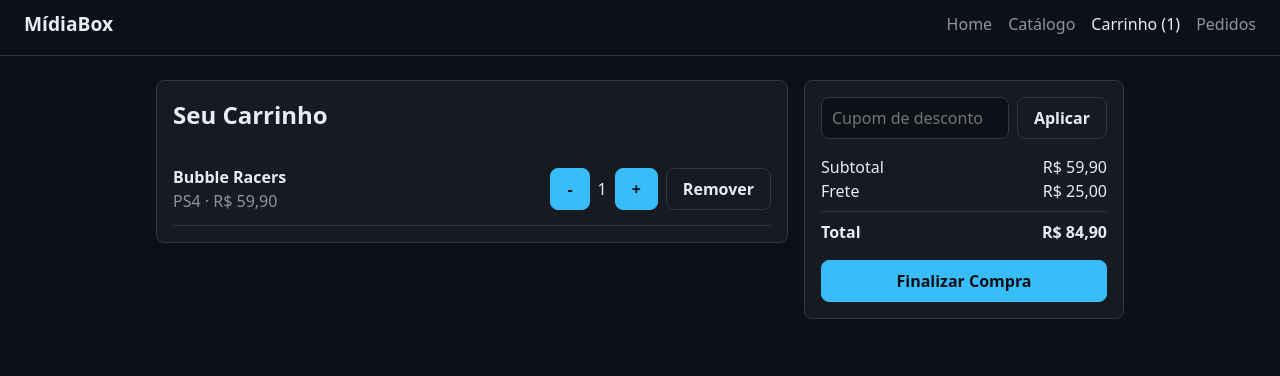
it: página Carrinho › avisa quando o cupom não existe
This screenshot has width=1280, height=376.
Type "BLACKFRIDAY" into the field labelled "Cupom". click: (915, 118)
box: [821, 97, 1009, 139]
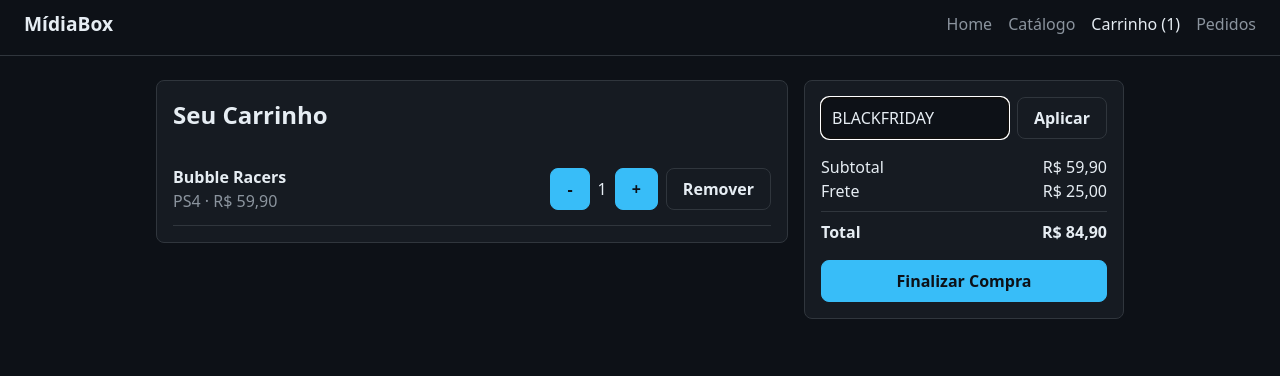
Click the button "Aplicar". click: (1062, 118)
box: [1017, 97, 1107, 139]
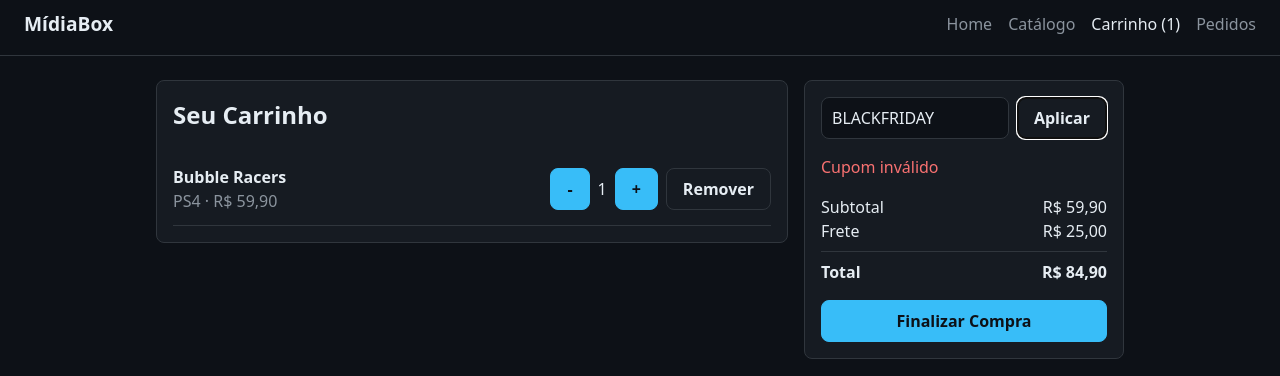
Now the message reads "Cupom inválido", box [821, 156, 938, 178]
